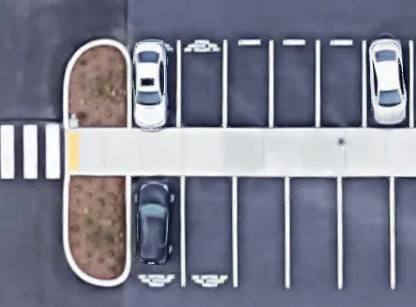Occupied: (128, 175, 182, 287), (129, 39, 178, 127), (364, 41, 412, 127)
Vacant: (339, 177, 393, 289), (234, 176, 288, 287), (182, 176, 235, 287), (287, 177, 339, 288), (271, 40, 318, 127), (318, 41, 365, 127), (179, 40, 225, 127), (225, 40, 271, 127)
